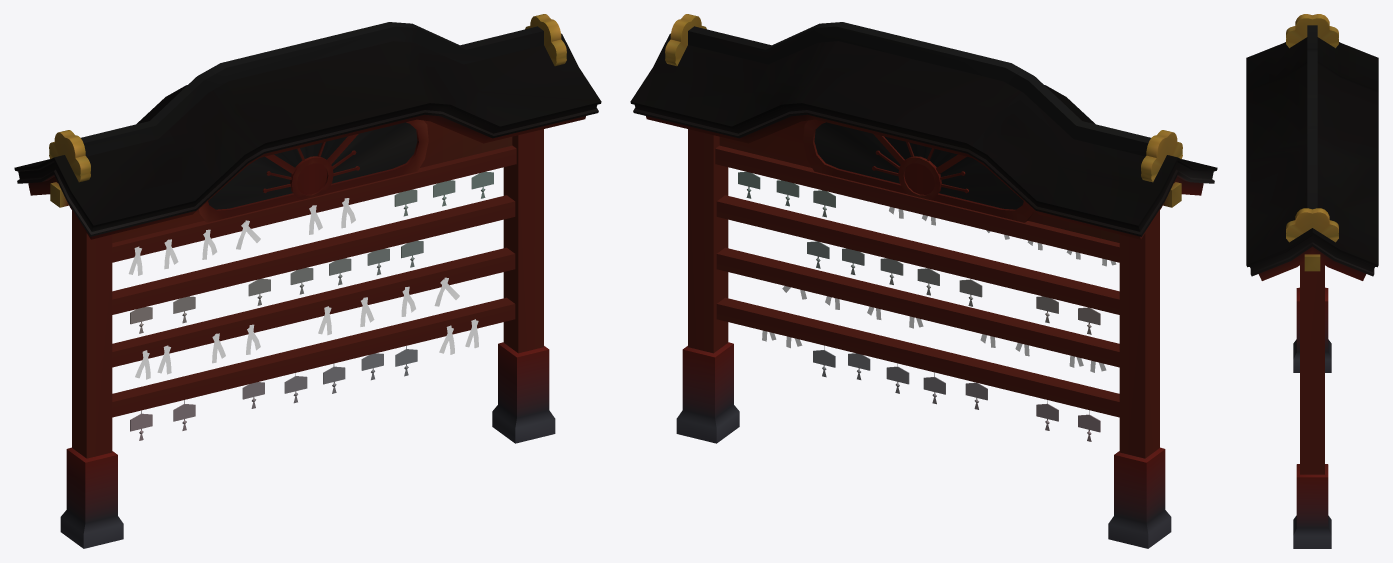
The model's file is Yumemiru _Saikyo_ Fortune Slip Hanger.fbx.
The picture shows the model from 3 angles, left to right: view 1: azimuth 30°, elevation 25°; view 2: azimuth 150°, elevation 25°; view 3: azimuth 270°, elevation 25°; orthographic projection. The views are drawn at different scales.
Parts seen in each view (by area): view 1: Yumemiru "Saikyo" Fortune Slip Hanger; view 2: Yumemiru "Saikyo" Fortune Slip Hanger; view 3: Yumemiru "Saikyo" Fortune Slip Hanger.
Boxes of the visible parts, bbox=[...] form: Yumemiru "Saikyo" Fortune Slip Hanger: bbox=[14, 14, 601, 548]; Yumemiru "Saikyo" Fortune Slip Hanger: bbox=[630, 14, 1217, 548]; Yumemiru "Saikyo" Fortune Slip Hanger: bbox=[1246, 14, 1378, 548].
Bounding box in the file's own units: 4.81 × 3.97 × 1.3.
